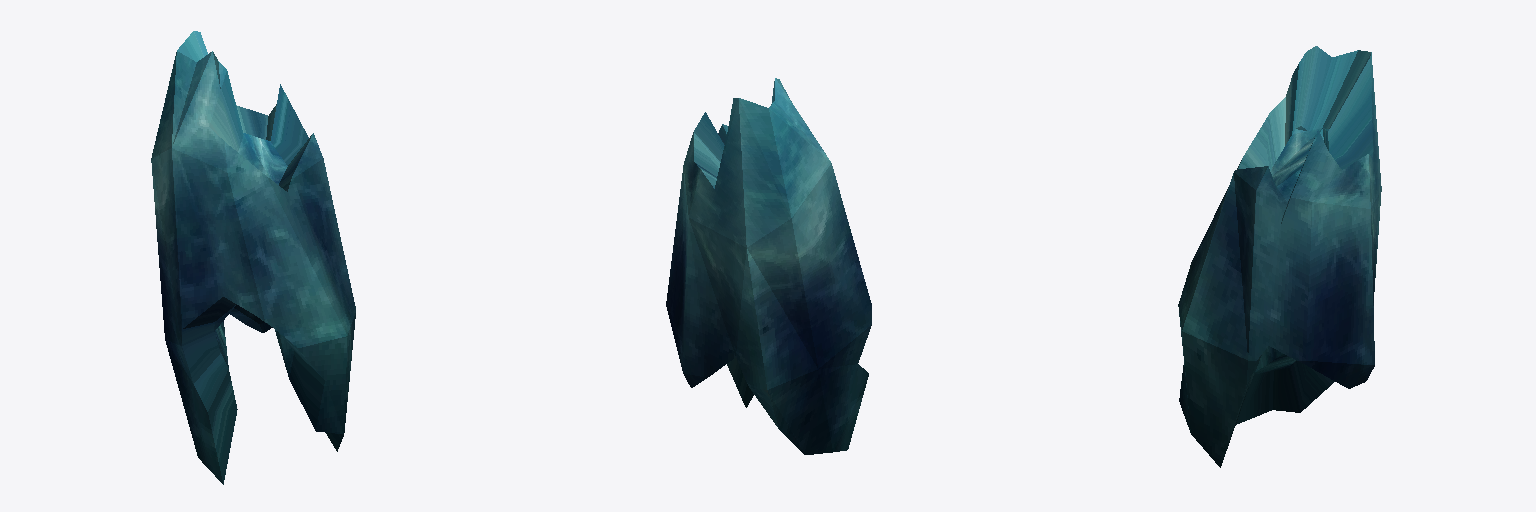
3 renders of one model, left to right at view 1: azimuth 30°, elevation 25°; view 2: azimuth 150°, elevation 25°; view 3: azimuth 270°, elevation 25°, orthographic.
Parts seen in each view (by area): view 1: Geoset_4; view 2: Geoset_4; view 3: Geoset_4.
Boxes of the visible parts, box(x1,y1,x2,y2) form: Geoset_4: box(151, 31, 355, 484); Geoset_4: box(666, 78, 871, 454); Geoset_4: box(1178, 46, 1381, 467).
Size of the model in its own units: 1.59 by 3.38 by 1.57.
1 materials, 1 textured.